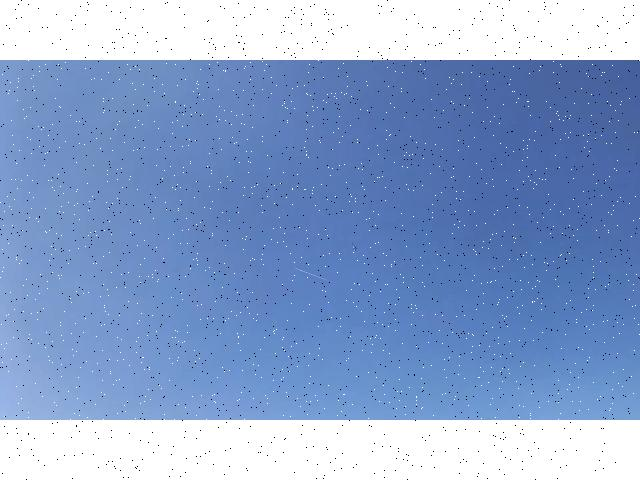Anti-Drone: (344, 238, 370, 254)
